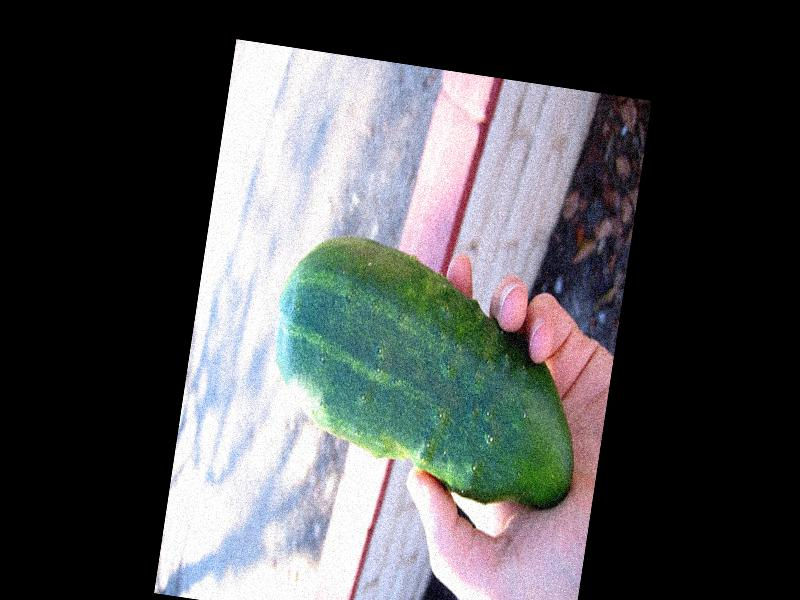Cucumber: (256, 225, 602, 513)
